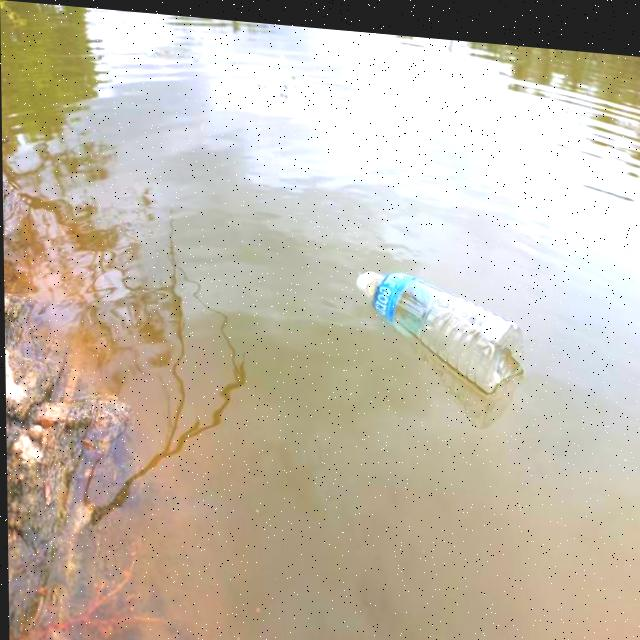waterbottle: (334, 256, 530, 379)
